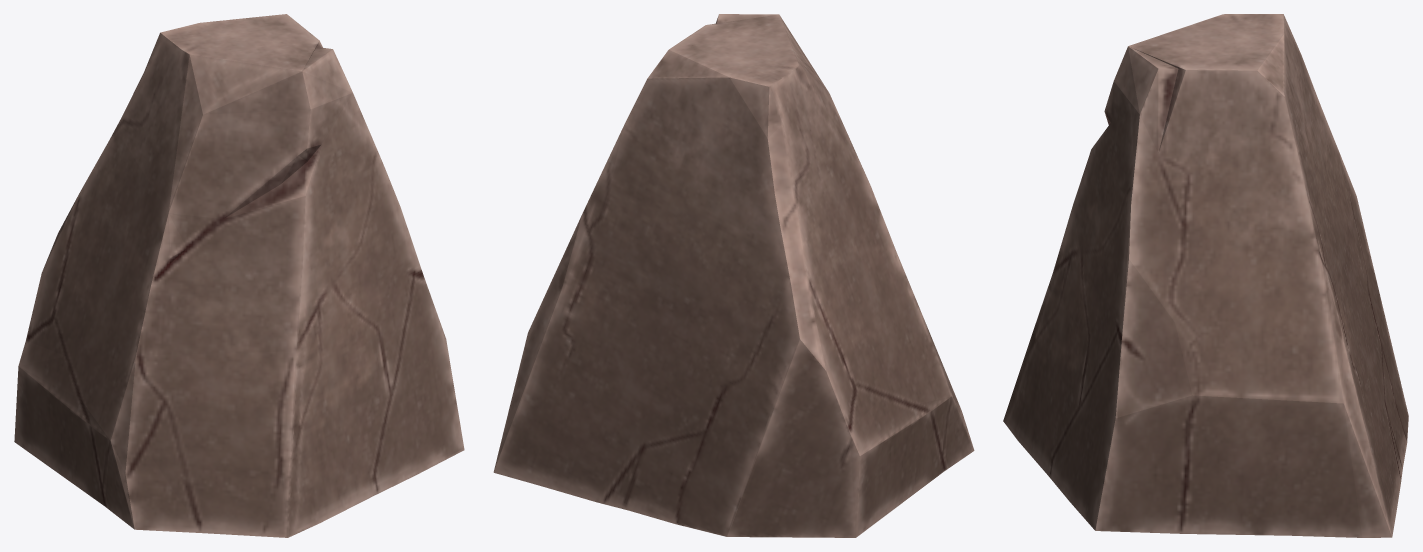
File: roca_fragmentos.glb
The picture shows the model from 3 angles, left to right: view 1: azimuth 30°, elevation 25°; view 2: azimuth 150°, elevation 25°; view 3: azimuth 270°, elevation 25°; orthographic projection. The views are drawn at different scales.
Visible parts, largest first — view 1: fragmento_07, fragmento_06, fragmento_03, fragmento_02, fragmento_05, fragmento_04, fragmento_00; view 2: fragmento_05, fragmento_04, fragmento_01, fragmento_00, fragmento_07, fragmento_06, fragmento_02; view 3: fragmento_01, fragmento_03, fragmento_00, fragmento_02, fragmento_04, fragmento_07, fragmento_05, fragmento_06.
Part boxes in pixels (box(x1,y1,x2,y2)): fragmento_07: box(82, 279, 338, 537); fragmento_06: box(126, 47, 317, 304); fragmento_03: box(317, 248, 464, 513); fragmento_02: box(252, 33, 413, 295); fragmento_05: box(14, 226, 126, 489); fragmento_04: box(61, 21, 251, 278); fragmento_00: box(217, 14, 309, 46); fragmento_05: box(656, 277, 922, 537); fragmento_04: box(686, 46, 878, 327); fragmento_01: box(493, 258, 685, 518); fragmento_00: box(562, 32, 752, 295); fragmento_07: box(879, 261, 974, 487); fragmento_06: box(753, 24, 899, 276); fragmento_02: box(696, 14, 786, 45); fragmento_01: box(1206, 247, 1405, 537); fragmento_03: box(1028, 247, 1205, 534); fragmento_00: box(1206, 41, 1343, 312); fragmento_02: box(1072, 40, 1205, 310); fragmento_04: box(1206, 14, 1353, 246); fragmento_07: box(1003, 236, 1072, 452); fragmento_05: box(1344, 189, 1408, 452); fragmento_06: box(1064, 20, 1205, 246).
Bounding box in the file's own units: 1.15 × 1.3 × 1.16.
Materials: 2 (1 with a texture image).
